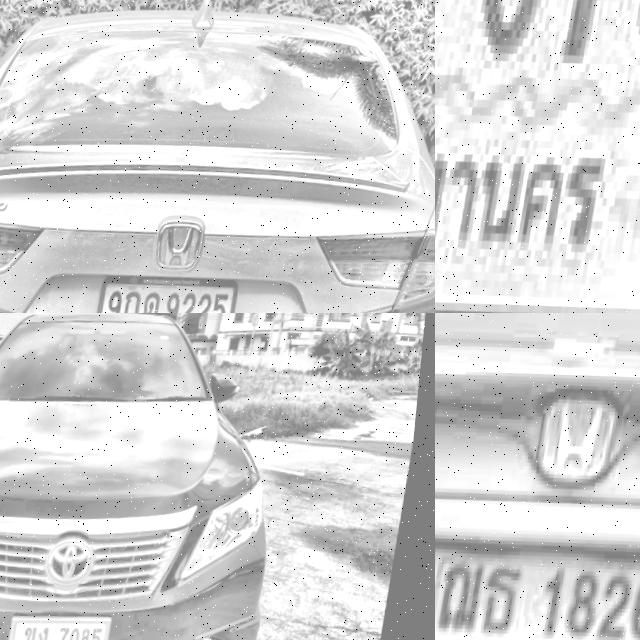license-plate: (435, 0, 640, 313), (435, 515, 640, 640), (88, 264, 255, 313), (9, 609, 126, 640)
